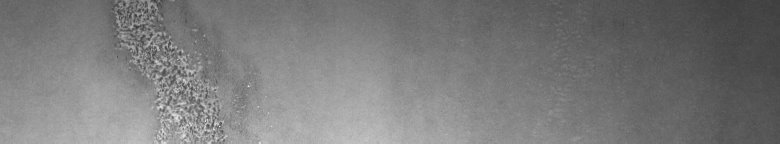hc: (110, 4, 251, 136)
